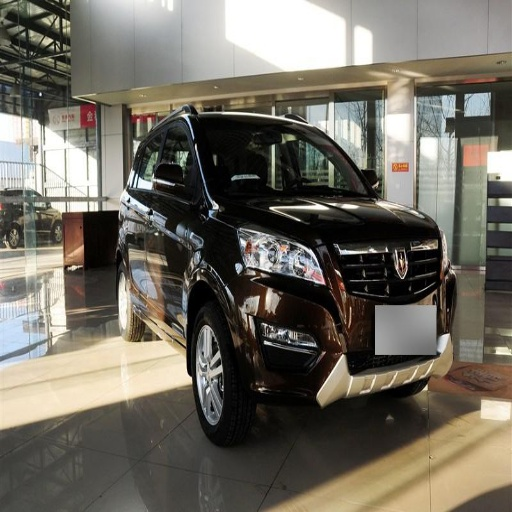front_bumper: (229, 231, 449, 405)
front_right_door: (147, 115, 200, 319)
front_right_light: (236, 229, 326, 285)
